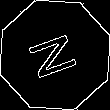N_E: (25, 27, 85, 83)
